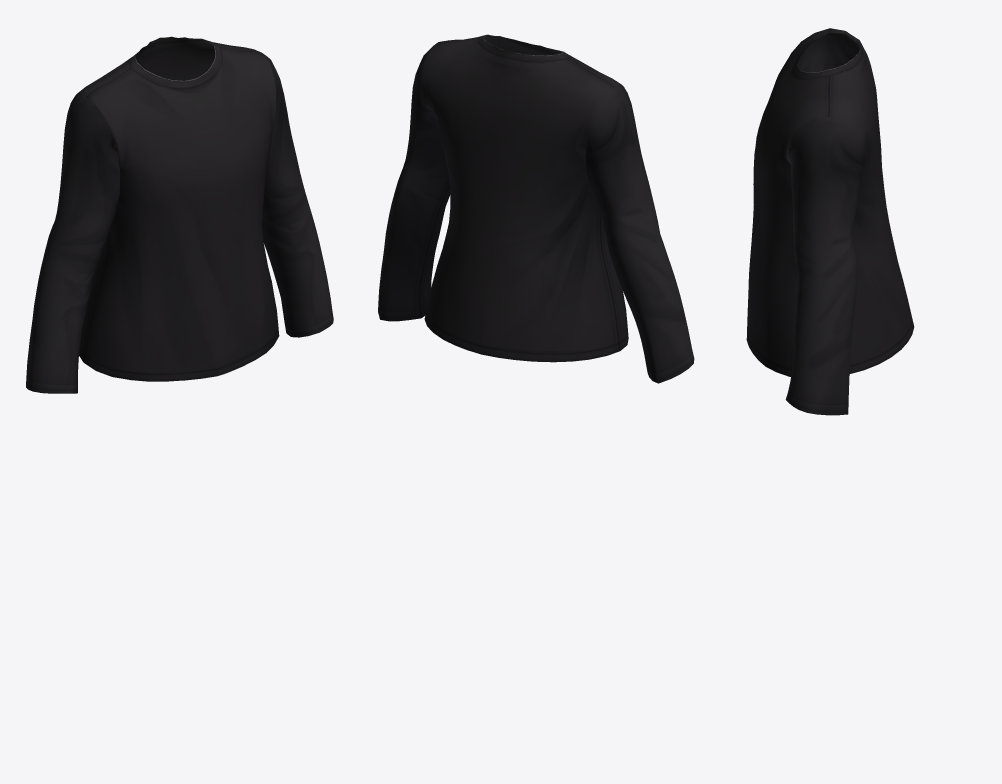
File: longsleeve_apose.glb
3 views of the same model, side by side, from view 1: azimuth 30°, elevation 25°; view 2: azimuth 150°, elevation 25°; view 3: azimuth 270°, elevation 25° (orthographic).
Visible parts, largest first — view 1: longsleeve; view 2: longsleeve; view 3: longsleeve.
Part boxes in pixels (x1,y1,x2,y2): longsleeve: (26, 36, 333, 393); longsleeve: (378, 34, 694, 383); longsleeve: (746, 28, 914, 415).
Size of the model in its own units: 0.6251 by 1.37 by 0.4744.
Materials: 1 (1 with a texture image).
